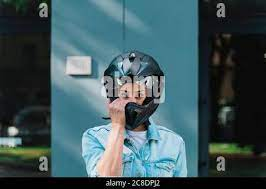helmets: (97, 49, 167, 131)
